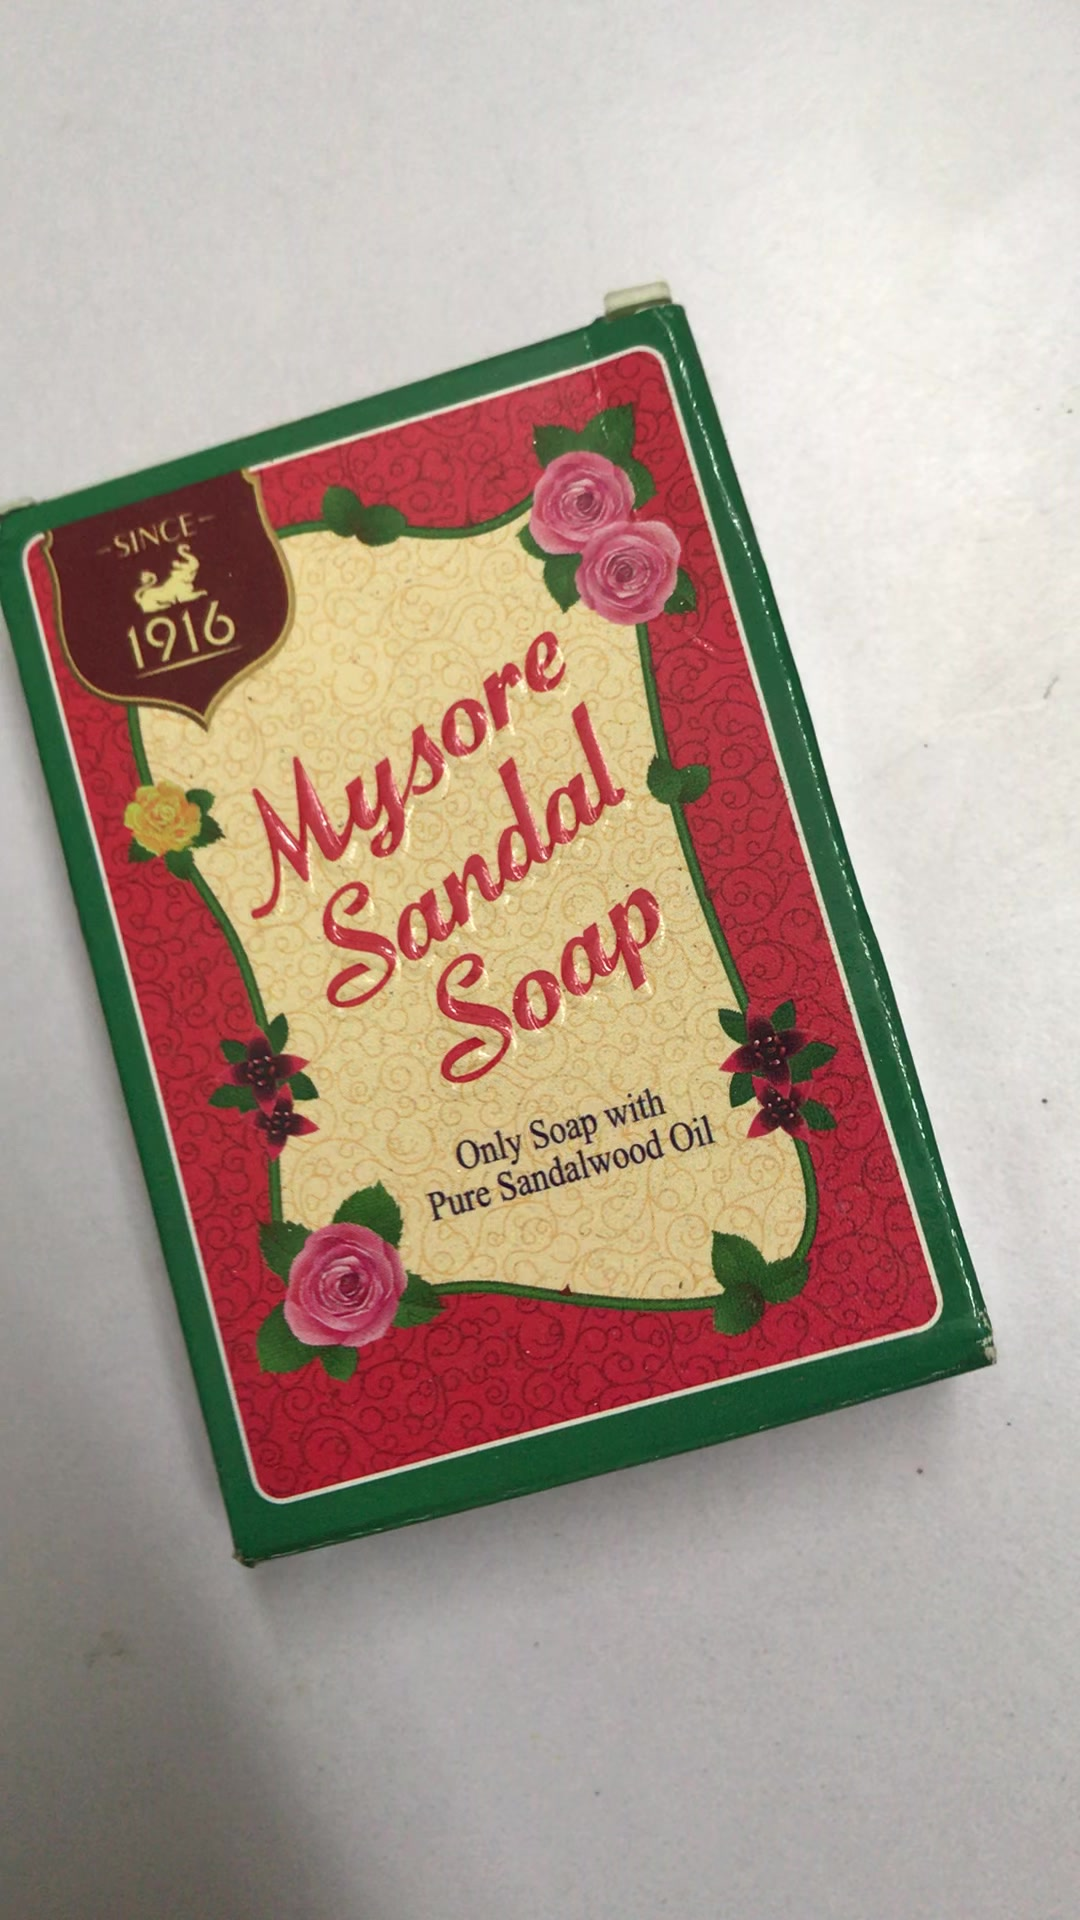mysore sandal soap: (3, 298, 996, 1567)
